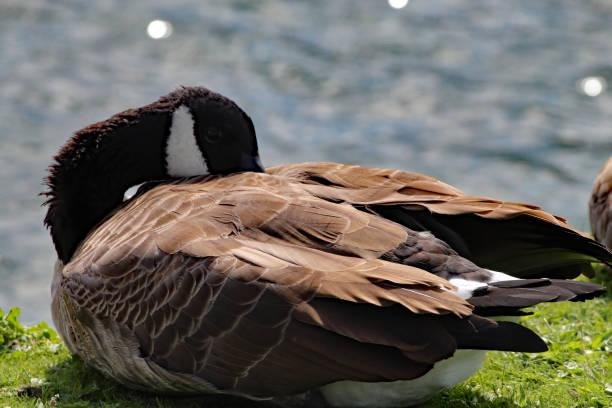Canadian-Goose: (43, 84, 611, 408)
